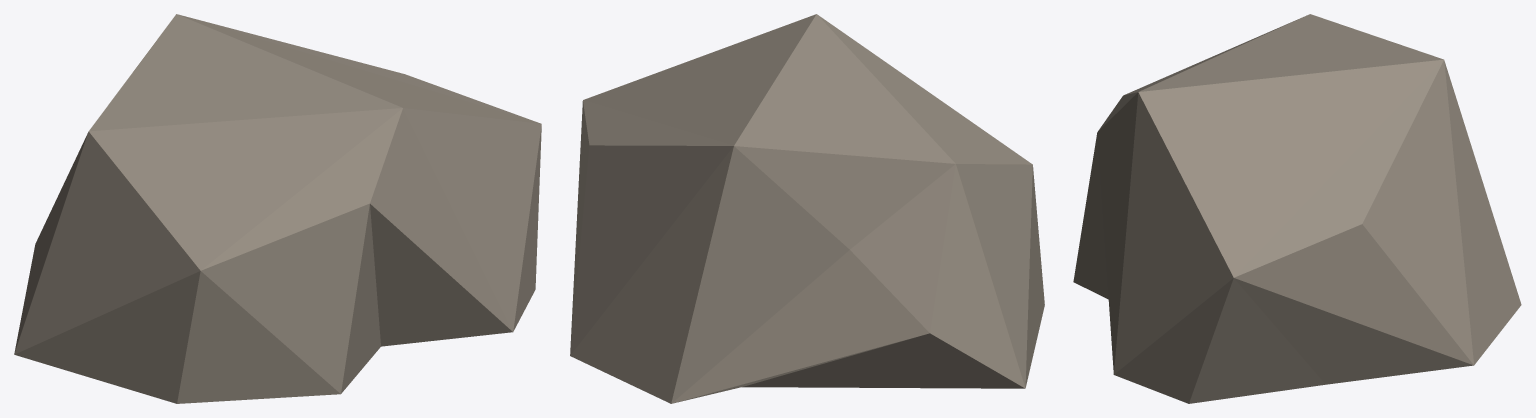
The model's file is rock_small_03.glb.
The picture shows the model from 3 angles, left to right: view 1: azimuth 30°, elevation 25°; view 2: azimuth 150°, elevation 25°; view 3: azimuth 270°, elevation 25°; orthographic projection.
Visible parts, largest first — view 1: rock_small_03; view 2: rock_small_03; view 3: rock_small_03.
Boxes of the visible parts, x1,y1,x2,y2 form: rock_small_03: [14, 14, 541, 403]; rock_small_03: [570, 14, 1044, 403]; rock_small_03: [1073, 14, 1521, 403].
Size of the model in its own units: 1.72 by 0.8076 by 1.39.
Materials: 1 (1 with a texture image).
